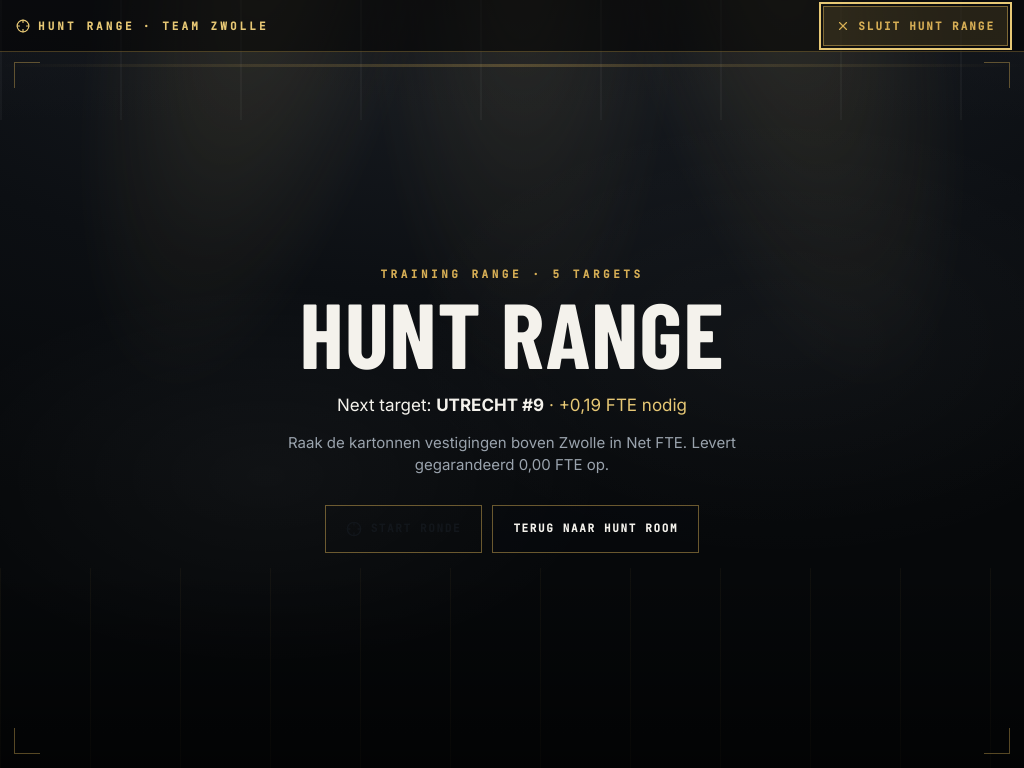
Test: HuntRange › reduced motion: a static board with all five targets, still clickable, round still ends
Later steps or results of the test are not shown.
Click the button "Start ronde" at (404, 529), box [325,505,482,553]
Wait 20000 ms
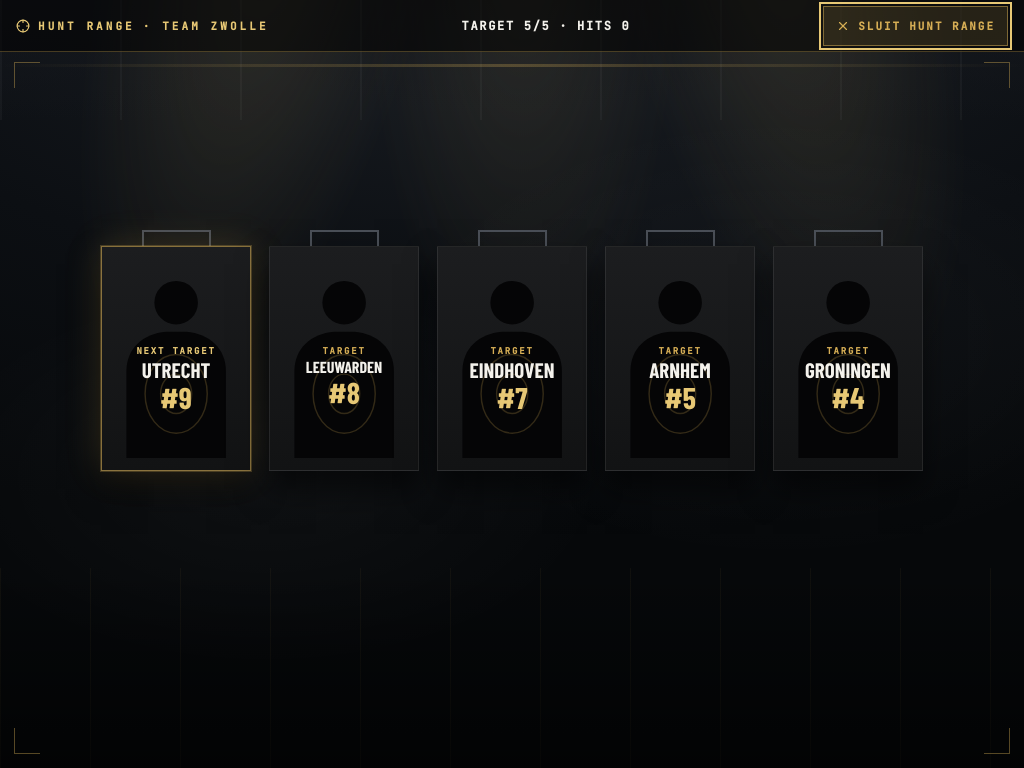
Expected: the number of elements with test id "range-target" is 5
Click the button "Next target Utrecht #9" at (176, 350), box [101,230,251,470]
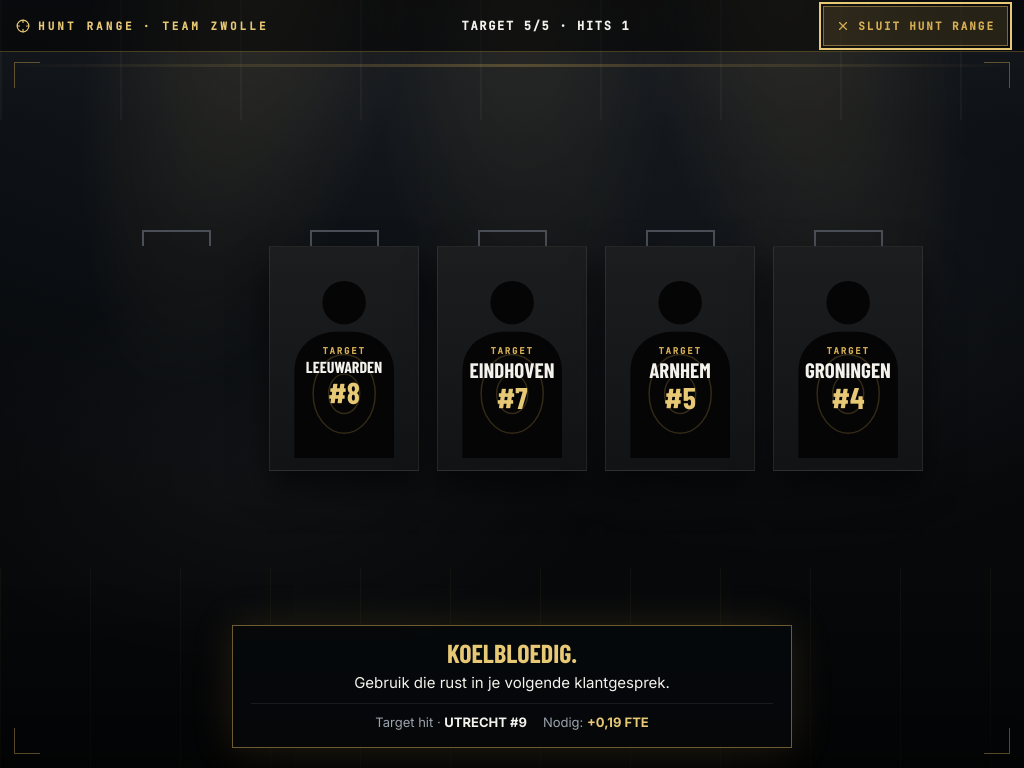
Click the button "Target Leeuwarden #8" at (344, 350), box [269,230,419,470]
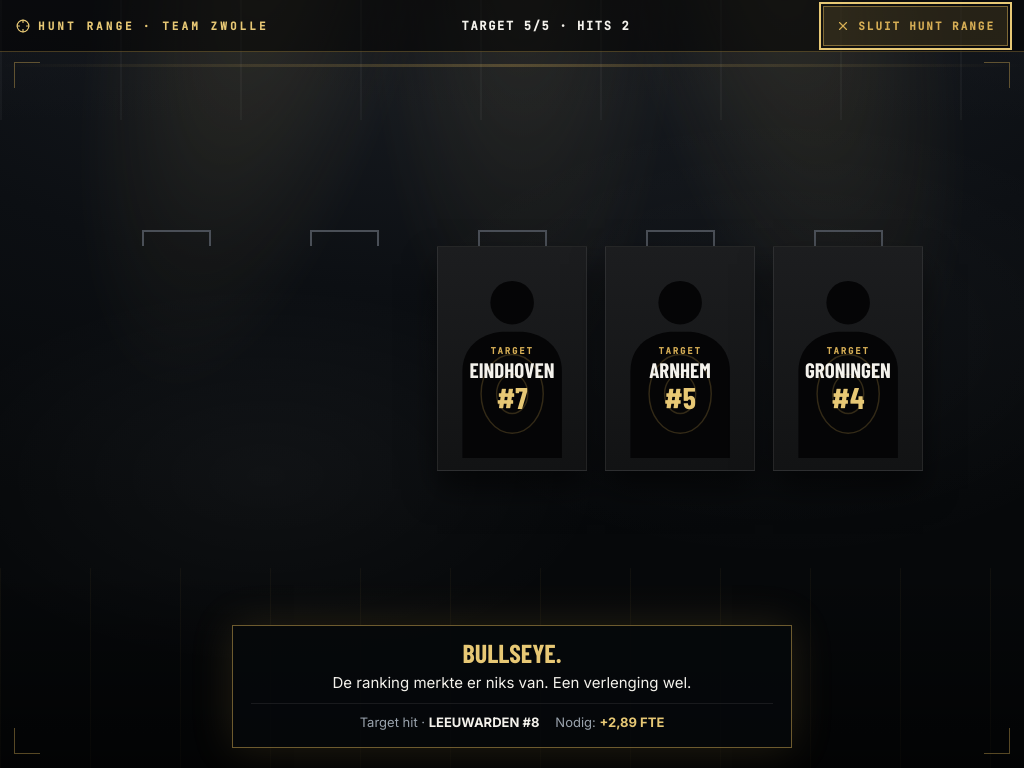
Click the button "Target Eindhoven #7" at (512, 350), box [437,230,587,470]
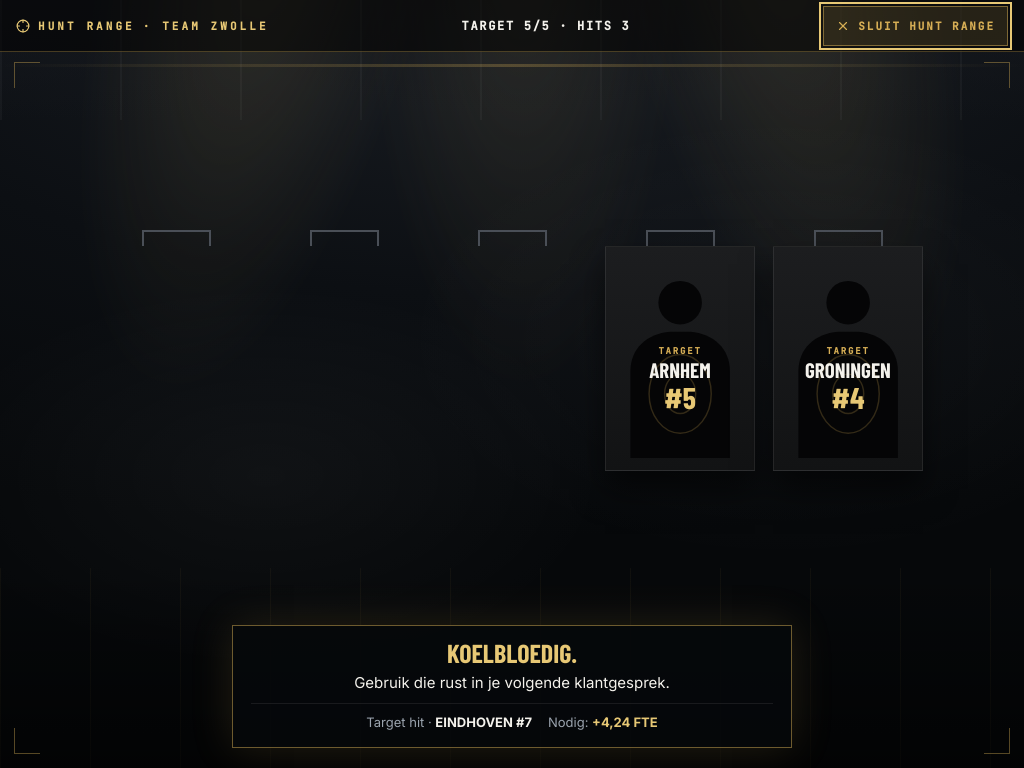
Click the button "Target Arnhem #5" at (680, 350), box [605,230,755,470]
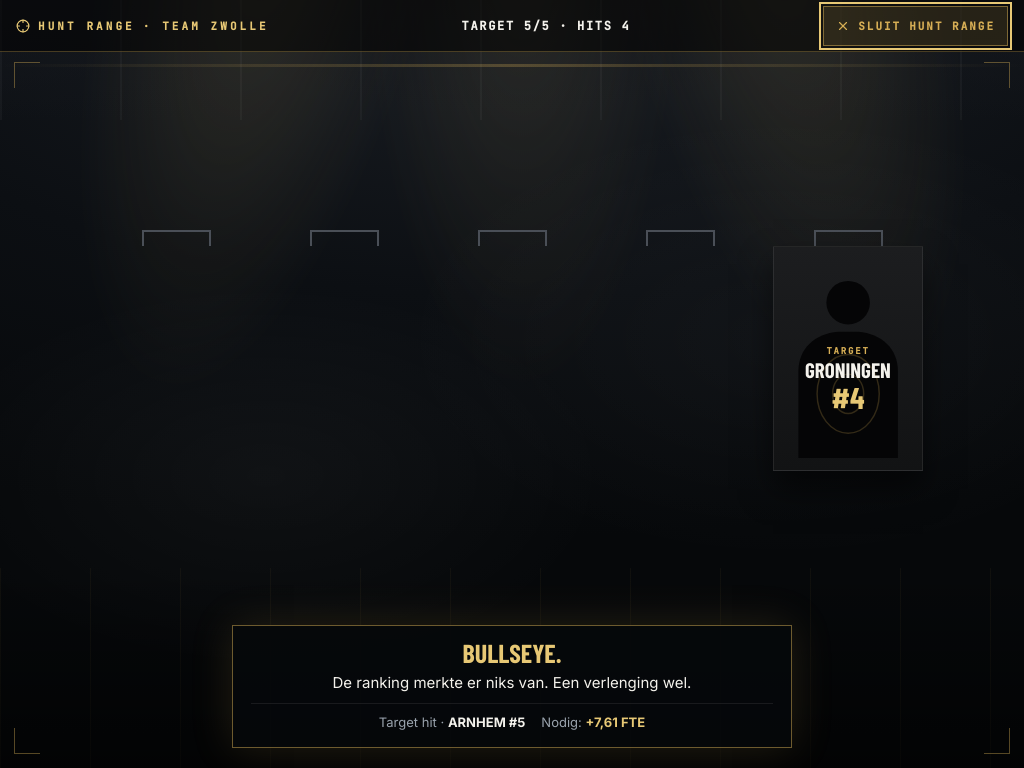
Click the button "Target Groningen #4" at (848, 350), box [773,230,923,470]
Wait 1450 ms
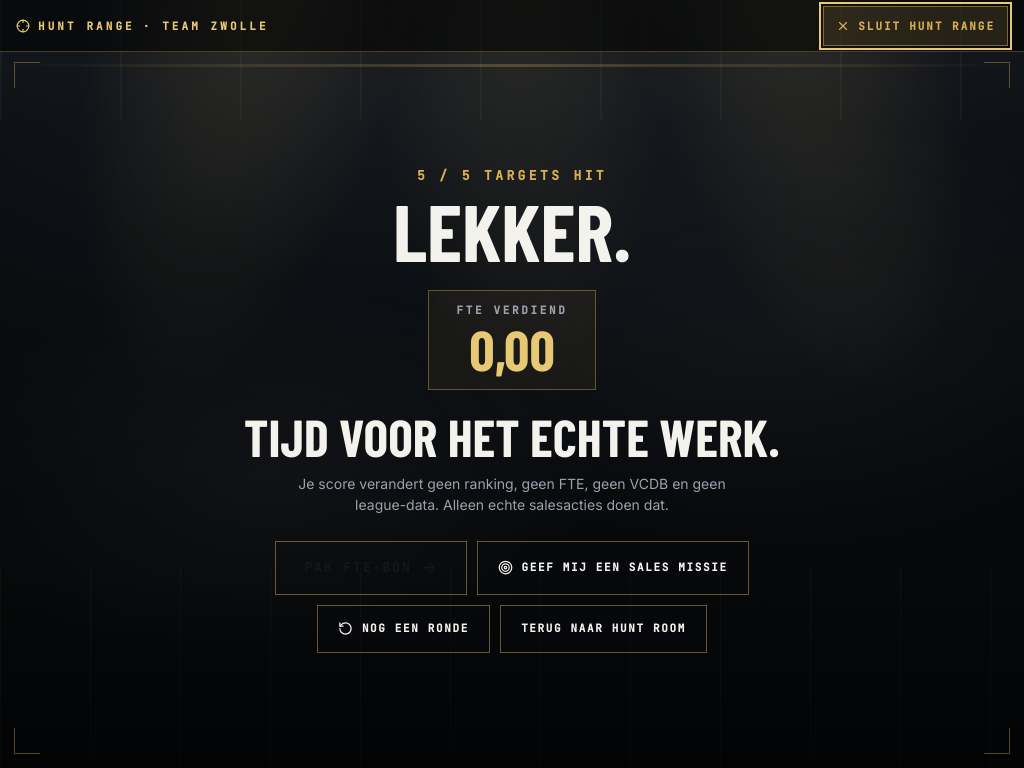
Expected: the element with test id "range-result" shows "5 / 5 targets hit", [244,167,780,653]
